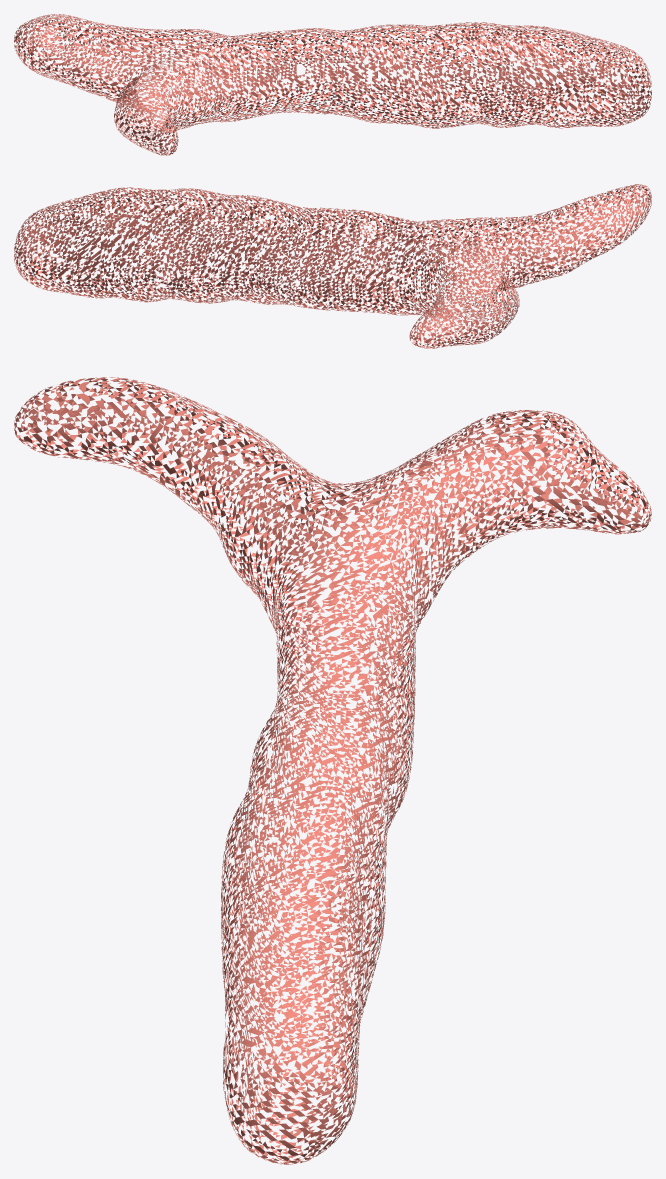
The model's file is diseased.glb.
3 views of the same model, one above another, from view 1: azimuth 30°, elevation 25°; view 2: azimuth 150°, elevation 25°; view 3: azimuth 270°, elevation 25° (orthographic). The views are drawn at different scales.
Size of the model in its own units: 123 by 38.7 by 67.86.
